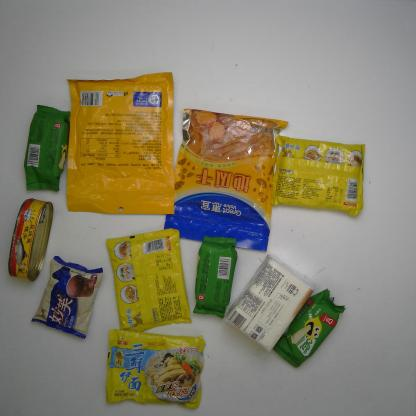Canned Food: (7, 198, 54, 283)
Dessert: (30, 255, 104, 340), (272, 287, 347, 369), (22, 104, 71, 193), (191, 235, 238, 320)
Dried Fruit: (163, 106, 290, 254), (64, 70, 178, 217)
Instant Noodles: (104, 228, 192, 335), (104, 326, 207, 410), (272, 133, 367, 218)
Tissue: (222, 254, 315, 354)
